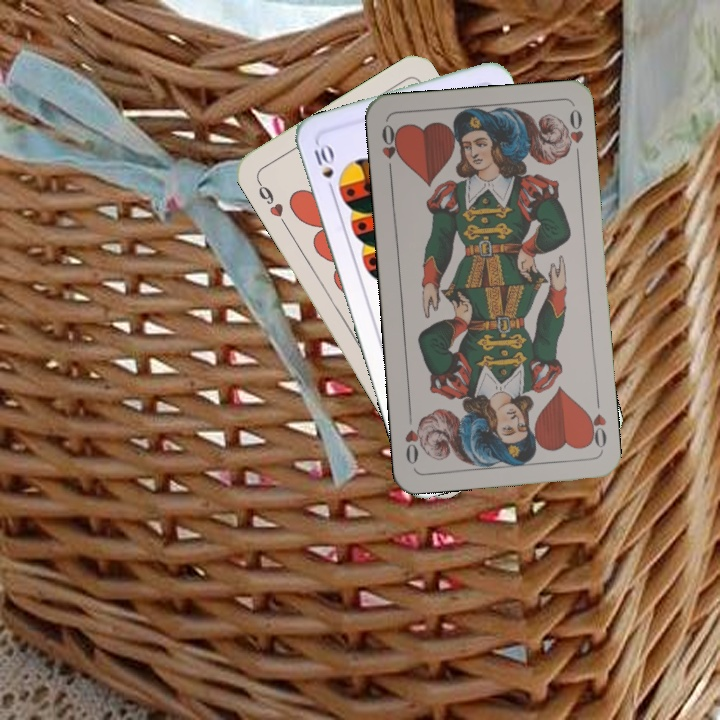H9: (252, 175, 289, 229)
HO: (378, 120, 403, 178), (582, 407, 609, 451)
S10: (309, 139, 337, 197)
